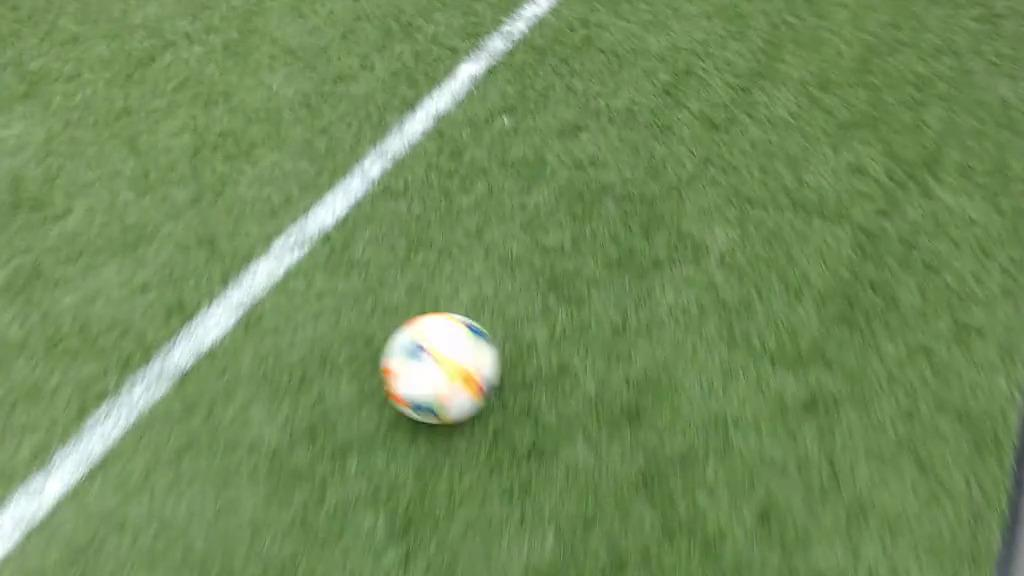ball: (380, 312, 499, 427)
